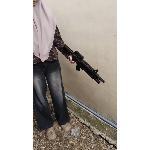Senapan: (60, 38, 106, 88)
